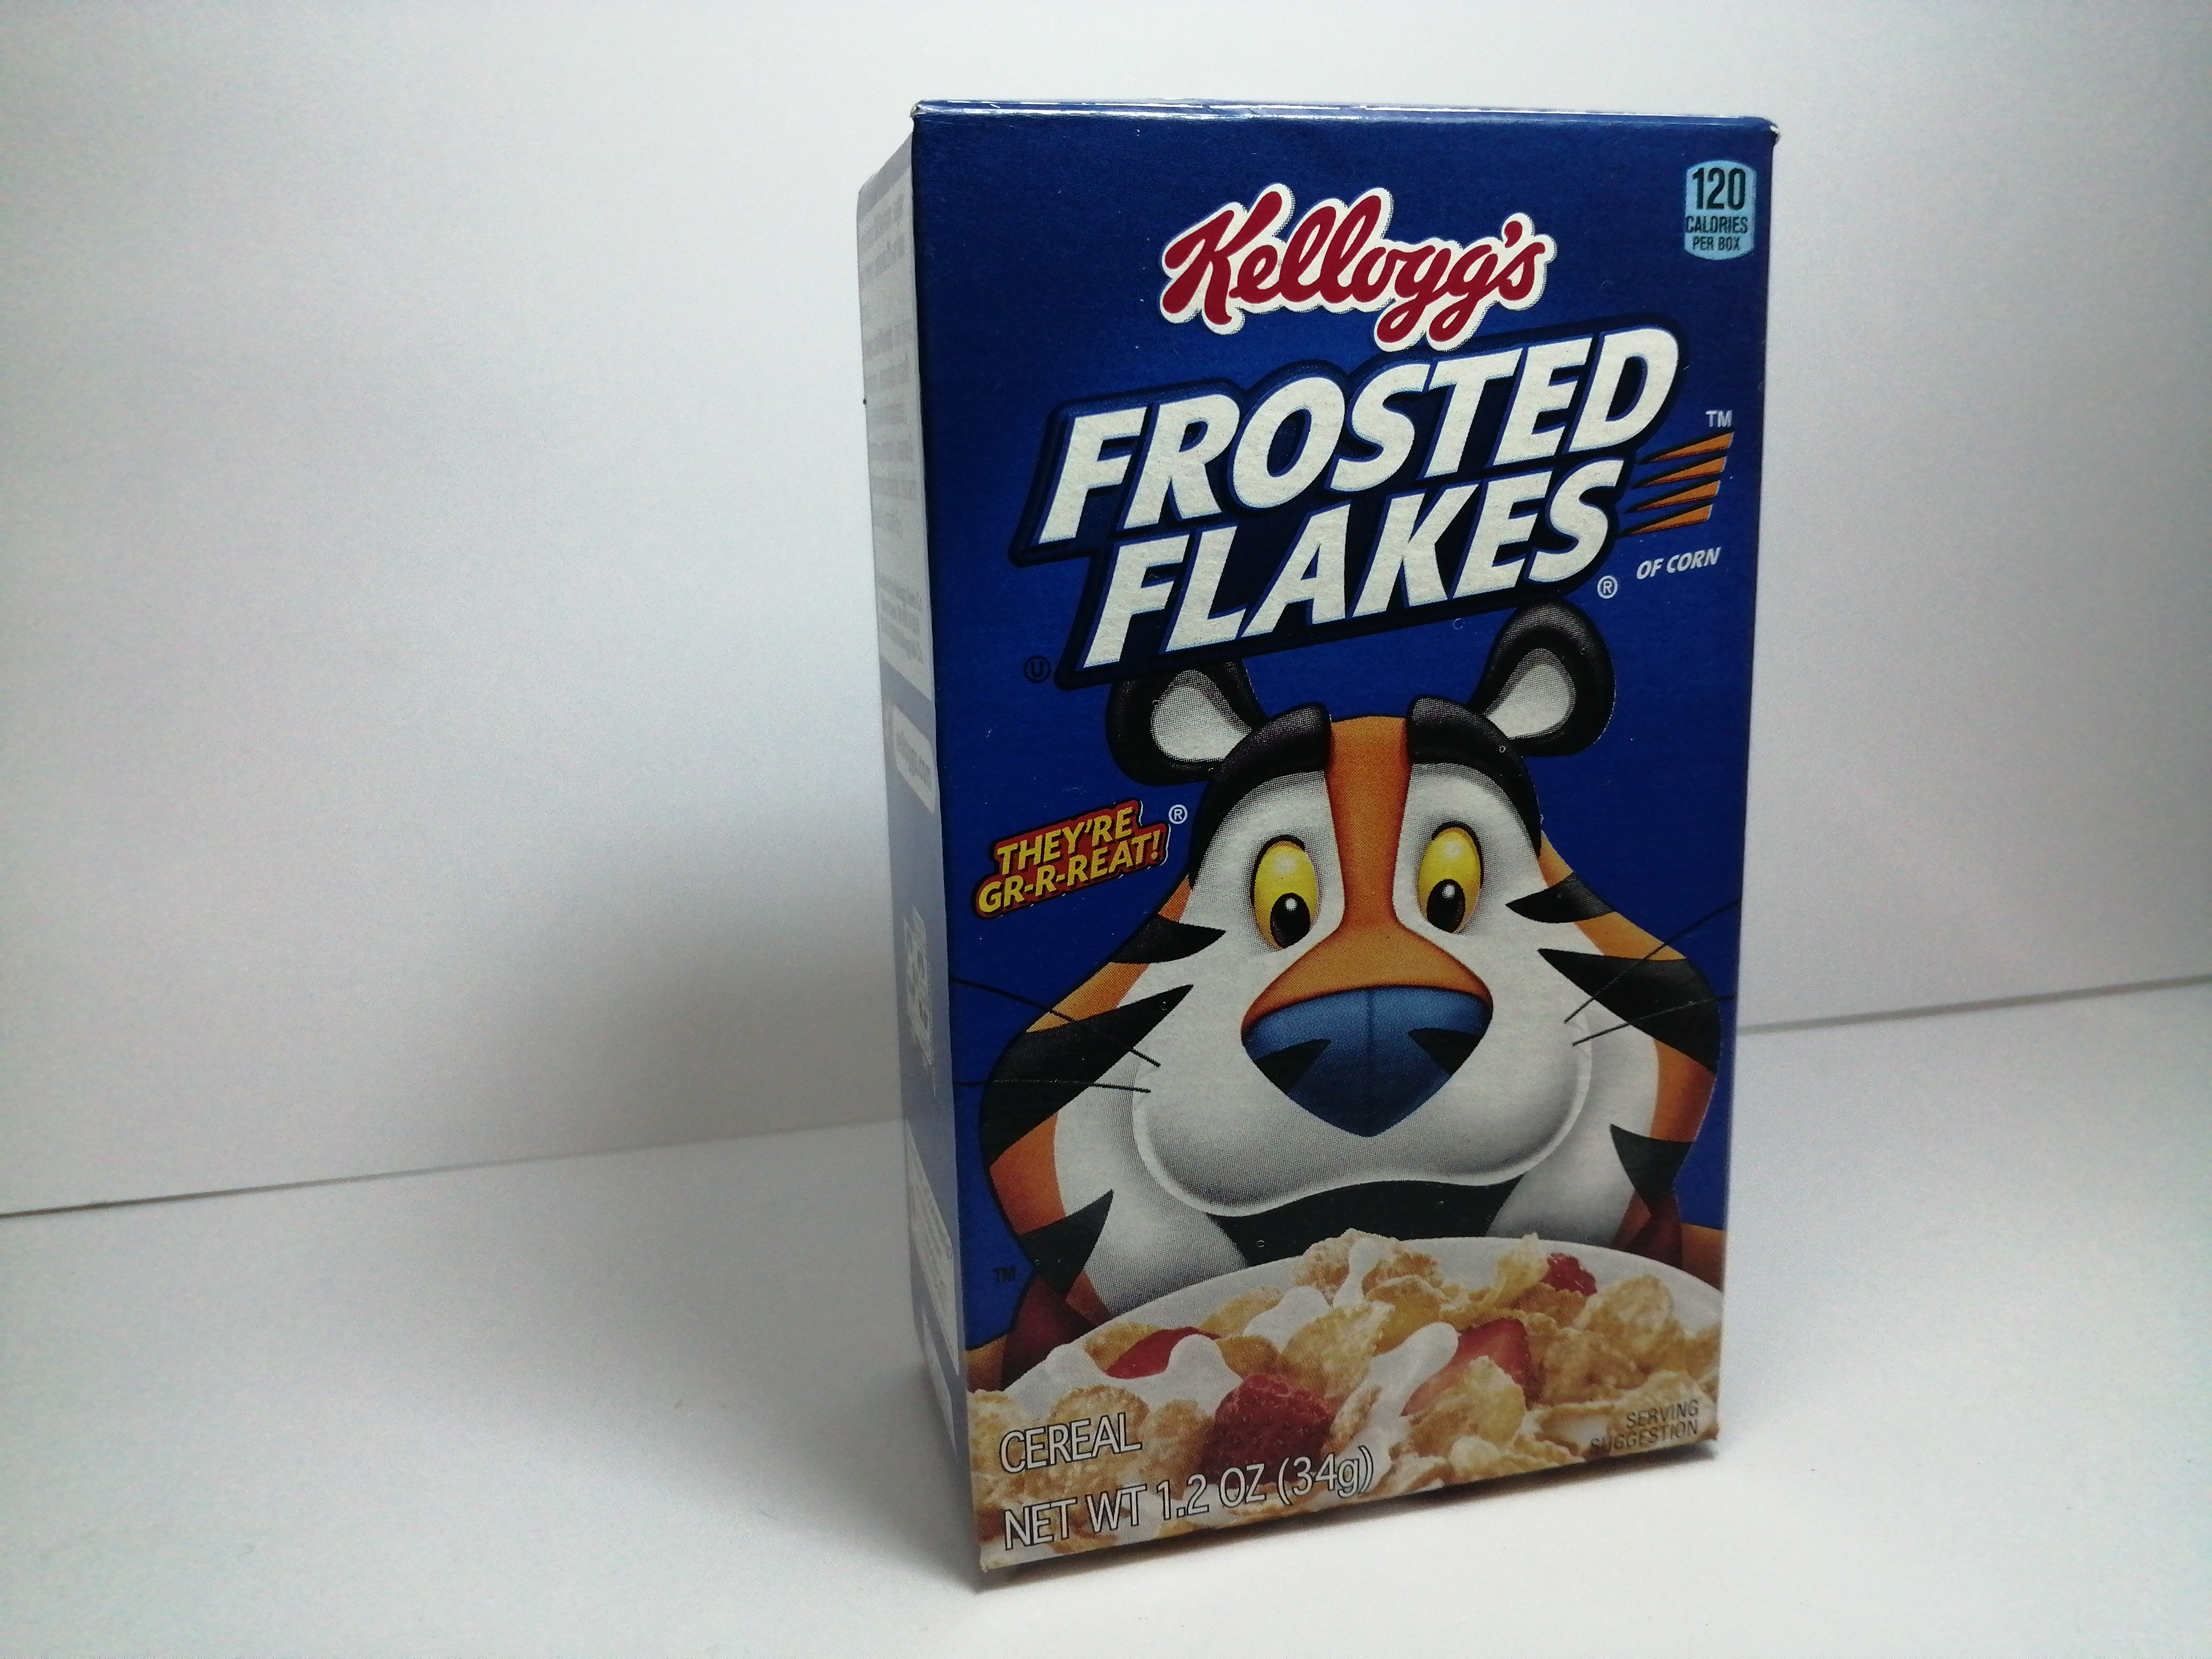cereal azucarado: (822, 44, 1844, 1600)
